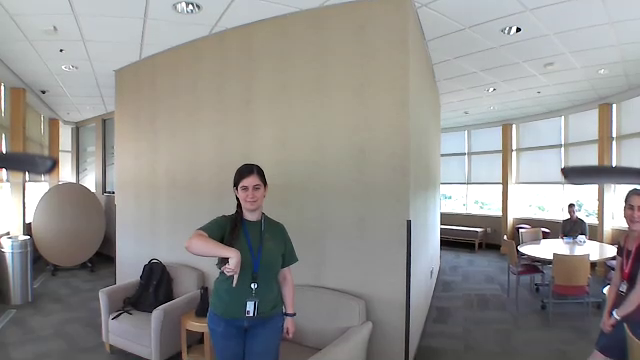down: (214, 239, 247, 289)
